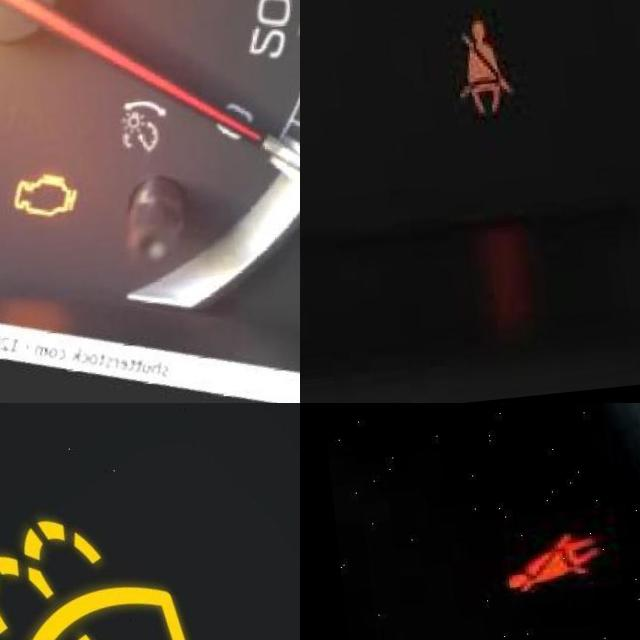Seat Belt: (492, 529, 591, 605), (450, 25, 504, 123)
Washer Fluid: (0, 513, 214, 640)
